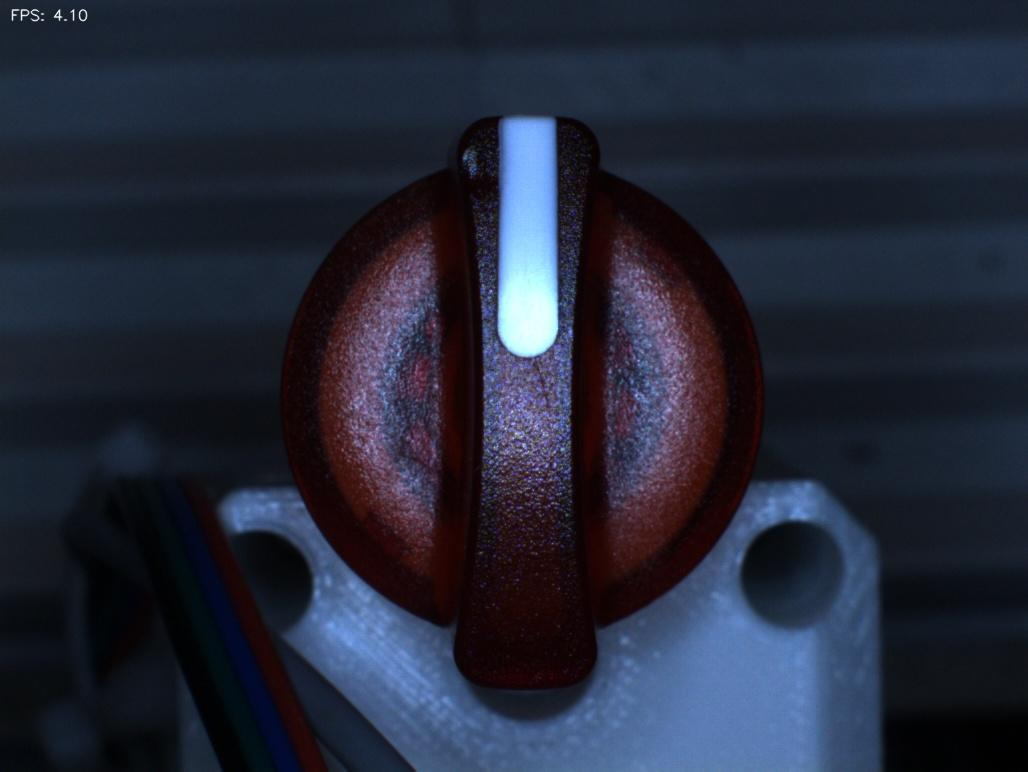Choc: (429, 115, 518, 211)
